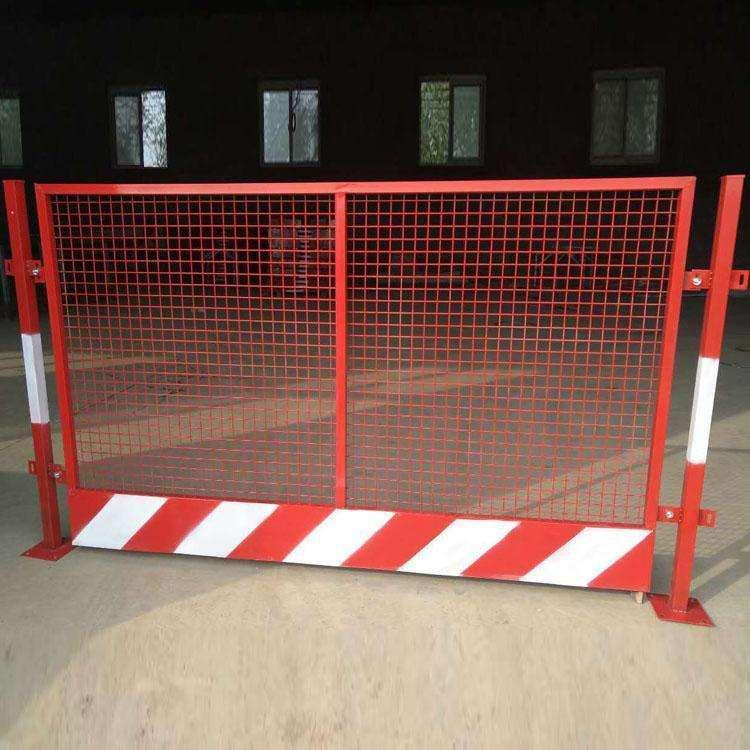sign: (2, 165, 750, 625)
